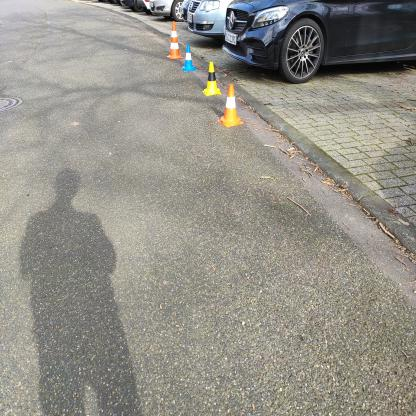Cones_big: (167, 18, 183, 62)
Cones_small_blue: (180, 39, 196, 75)
Cones_small_orange: (216, 79, 253, 137)
Cones_small_yellow: (198, 57, 221, 101)
